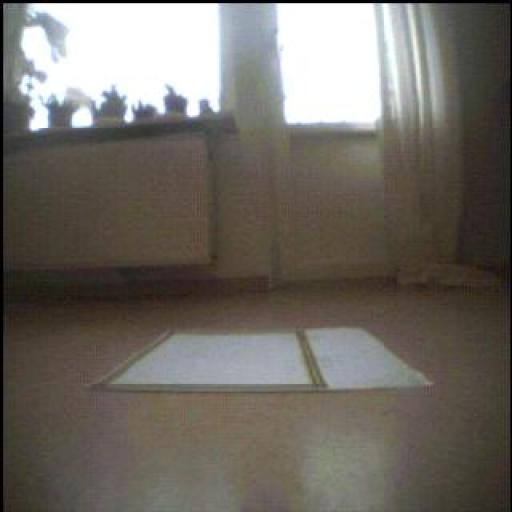Pad: (97, 329, 431, 393)
